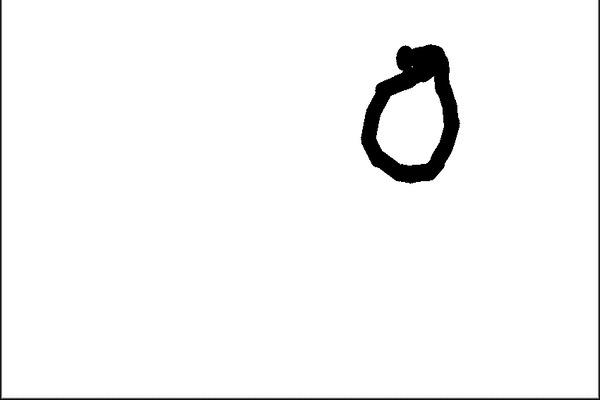O: (337, 40, 470, 191)
